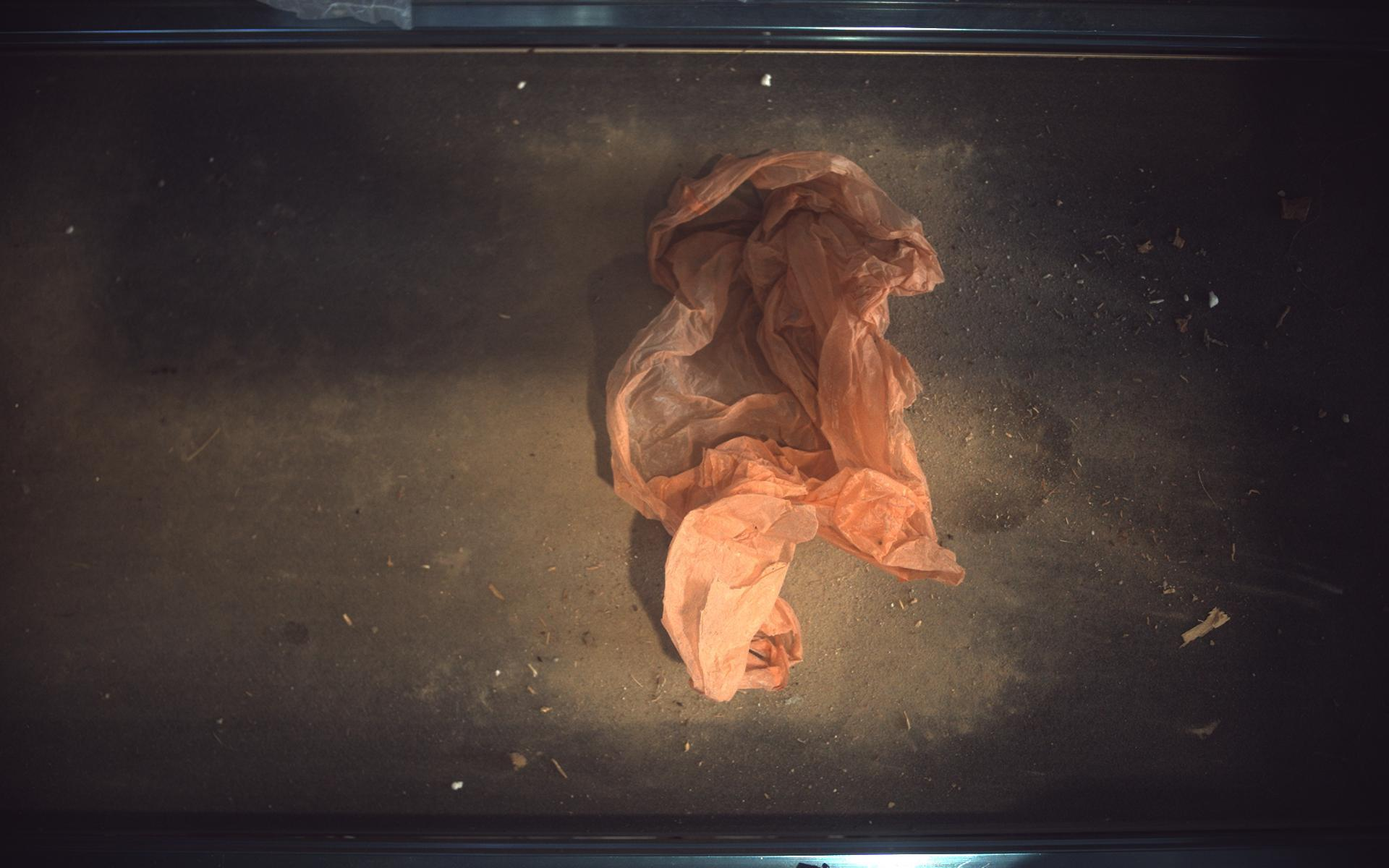general_w: (607, 150, 966, 702)
